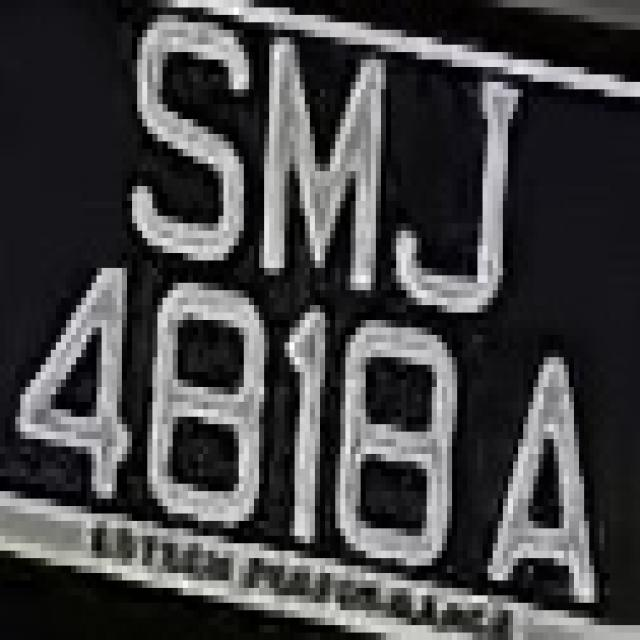1: (264, 260, 346, 588)
4: (5, 245, 142, 536)
8: (153, 245, 274, 550), (340, 305, 452, 588)
A: (472, 305, 625, 640)
J: (391, 75, 528, 328)
M: (254, 30, 396, 305)
S: (107, 15, 249, 283)
